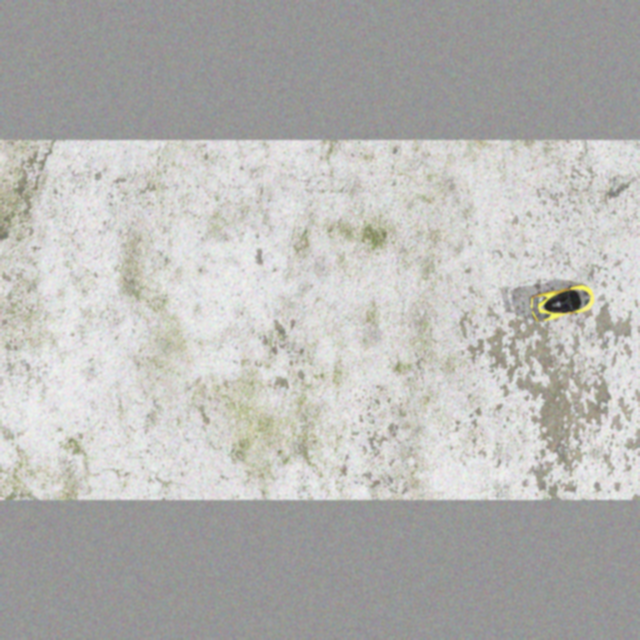car: (524, 279, 603, 324)
